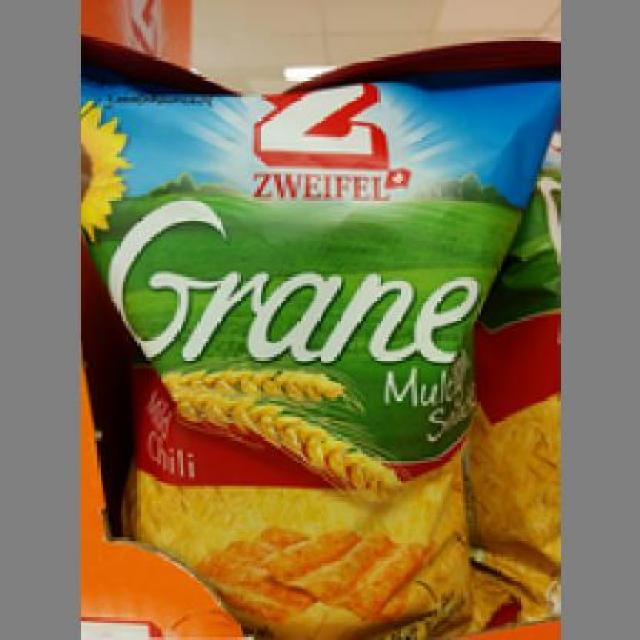Chips: (77, 85, 554, 626)
